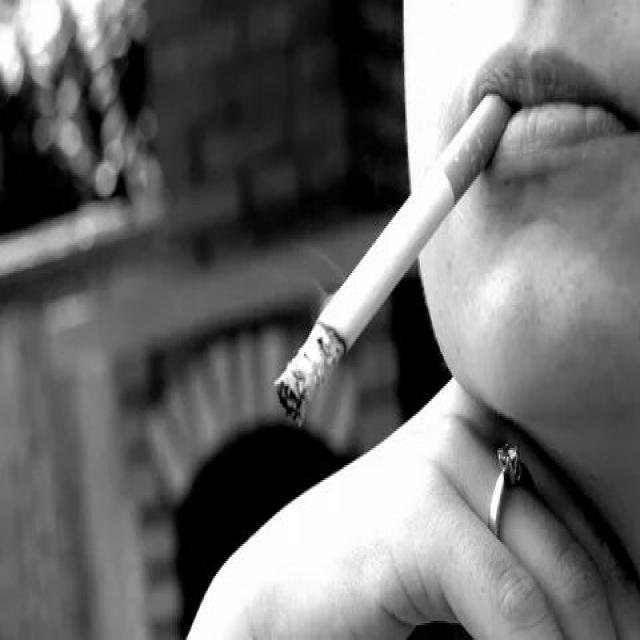cigarette: (268, 86, 516, 436)
